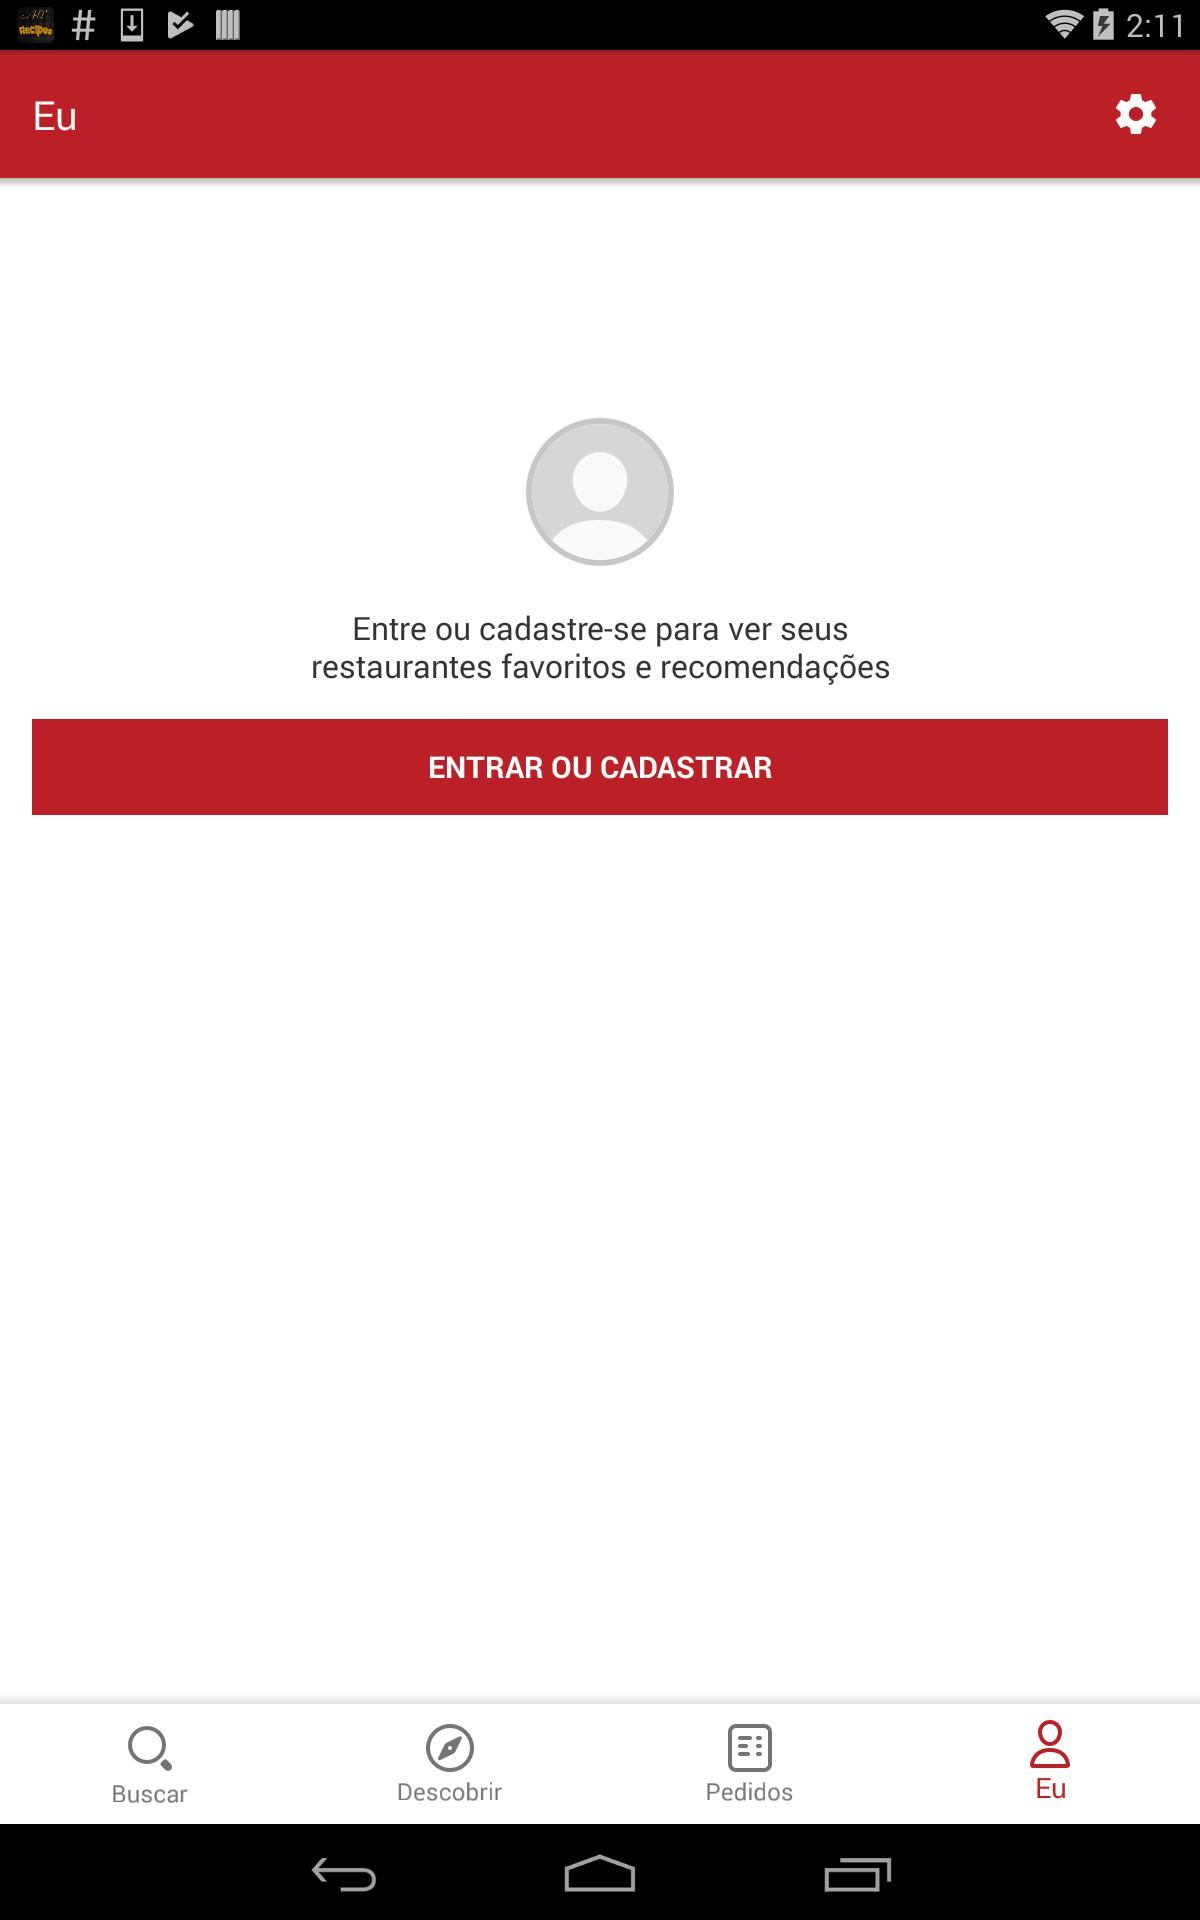android.support.v4.view.ViewPager: (0, 178, 1200, 1704)
android.support.v7.widget.LinearLayoutCompat: (1088, 50, 1183, 178)
android.view.View: (0, 50, 1200, 1704), (0, 50, 1200, 178), (0, 178, 1200, 188), (0, 1695, 1200, 1704)
android.widget.Button: (32, 719, 1168, 816)
android.widget.FrameLayout: (0, 0, 1200, 1825), (0, 50, 1200, 1825), (0, 178, 1200, 1704), (0, 50, 1200, 178), (0, 1704, 1200, 1825)
android.widget.ImageView: (525, 417, 675, 565), (126, 1709, 174, 1773), (426, 1709, 474, 1772), (726, 1709, 774, 1772), (1026, 1709, 1074, 1768)
android.widget.LinearLayout: (0, 50, 1200, 1825), (0, 178, 1200, 816), (0, 50, 1200, 178), (0, 1704, 1200, 1825), (0, 1709, 300, 1820), (300, 1709, 600, 1820), (600, 1709, 900, 1820), (900, 1709, 1200, 1820), (0, 1695, 1200, 1704)
android.widget.TextView: (310, 605, 890, 687), (1088, 66, 1183, 162), (397, 1775, 502, 1807), (705, 1775, 794, 1807), (111, 1778, 188, 1809), (32, 87, 77, 141), (1034, 1768, 1066, 1807)
